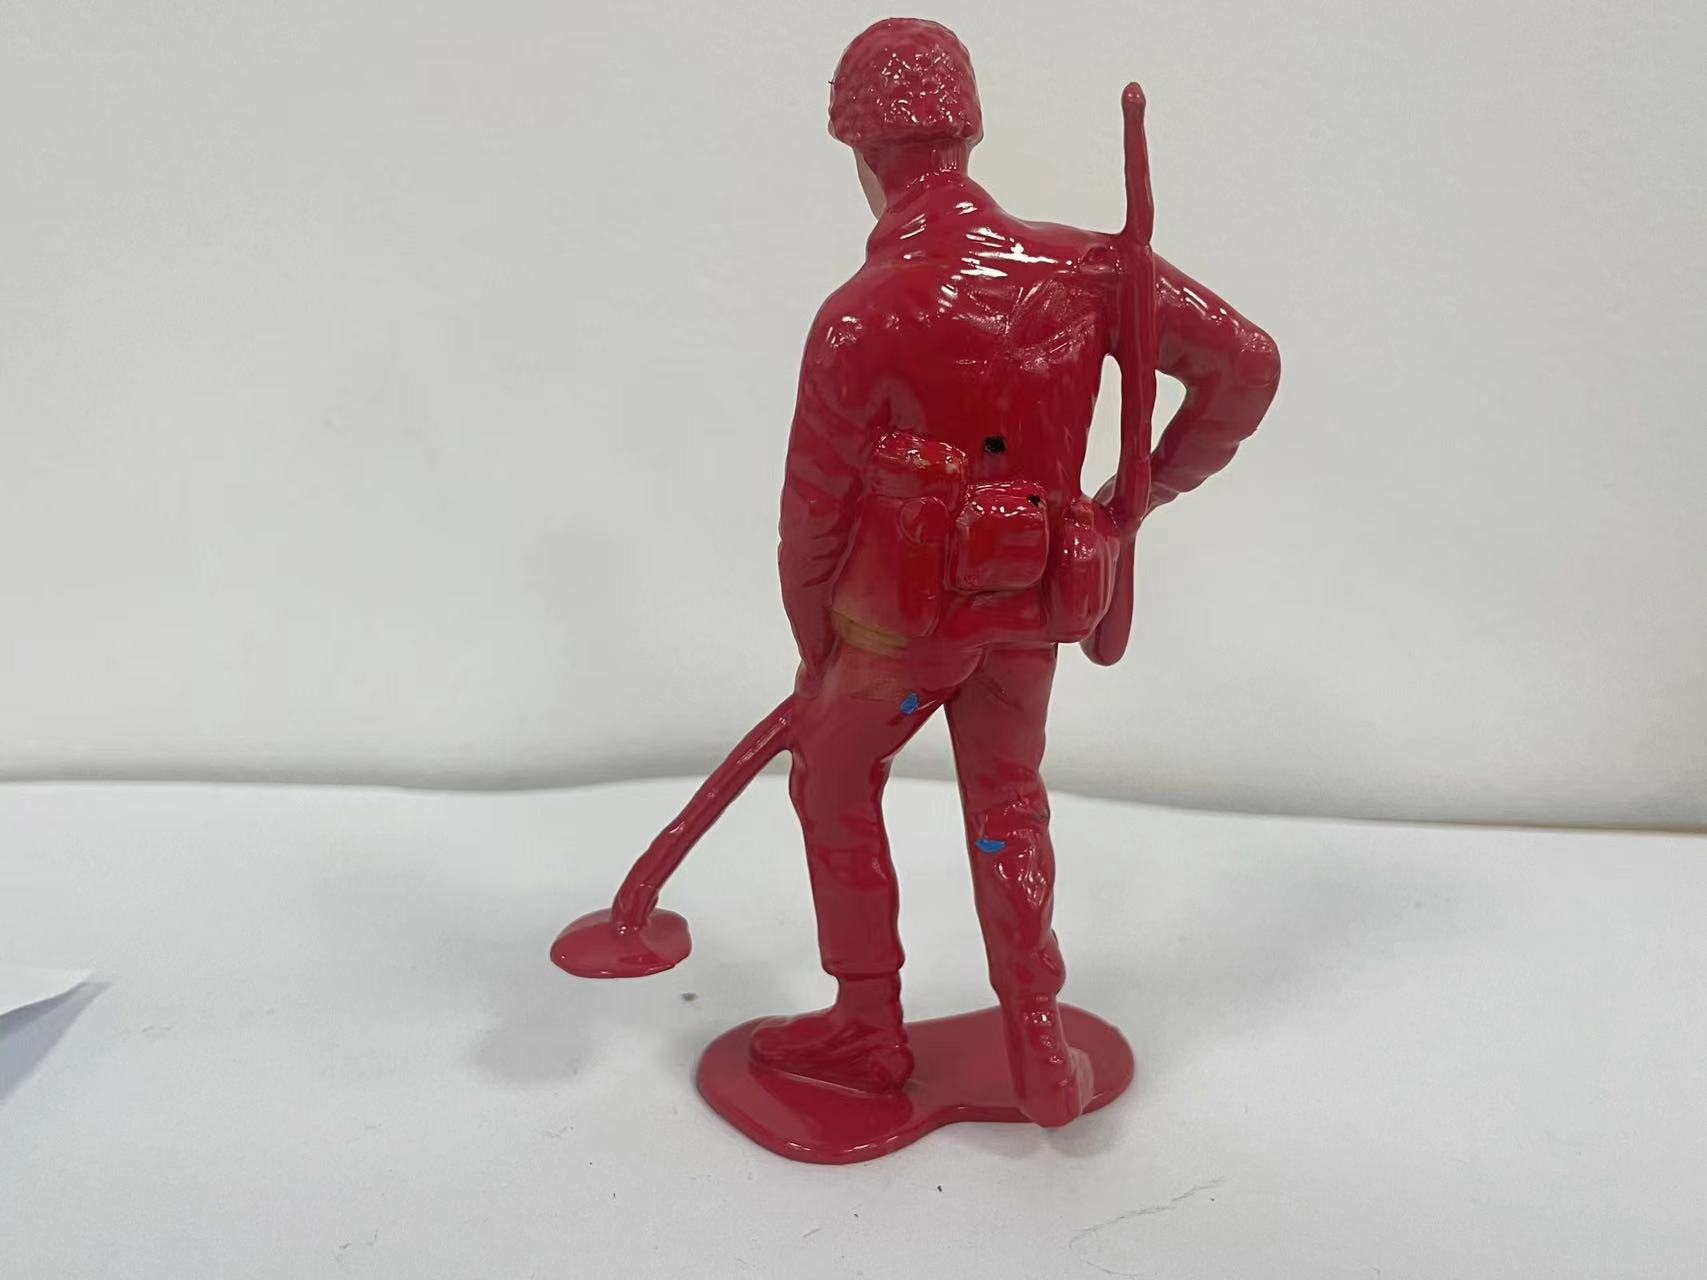red: (523, 1, 1312, 1236)
